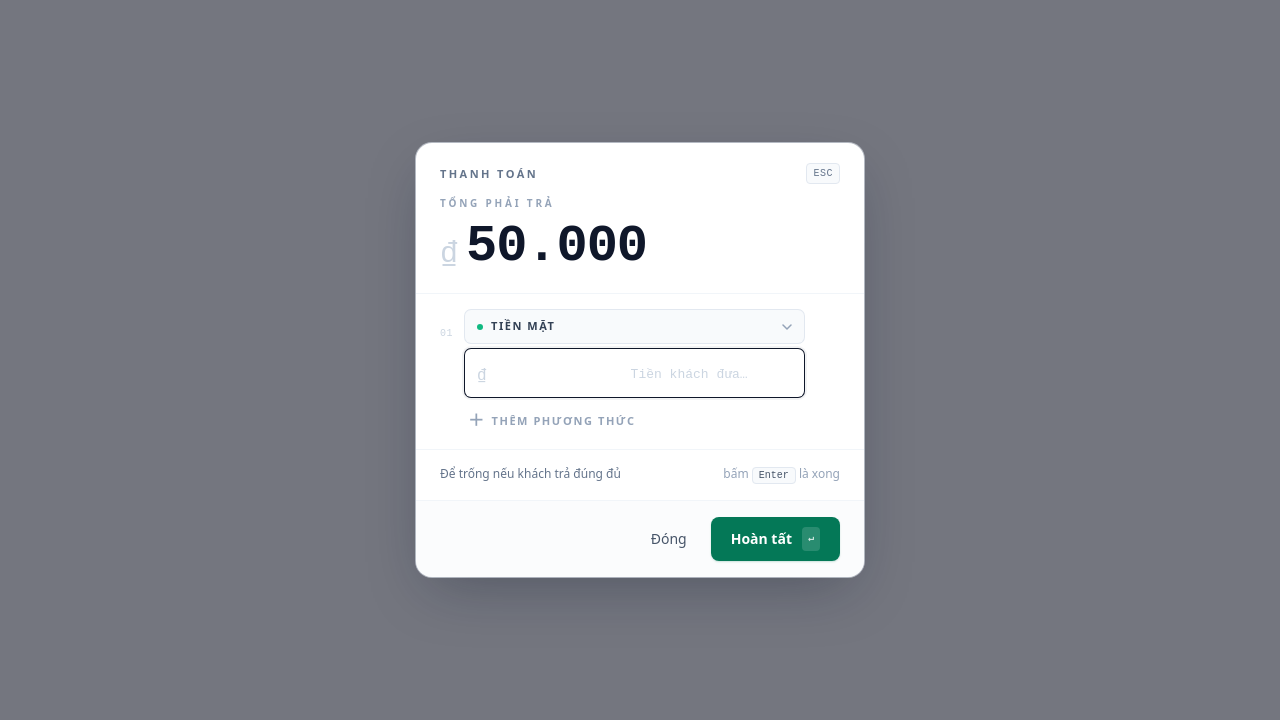
PaymentDialog › blocks debt when underpaid and no customer: hides checkbox, shows message, refuses to complete
The width and height of the screenshot is (1280, 720).
Type "30000" into the field named "Tiền khách đưa 1".
click(621, 373); type("30000")  # box [495,359,748,387]
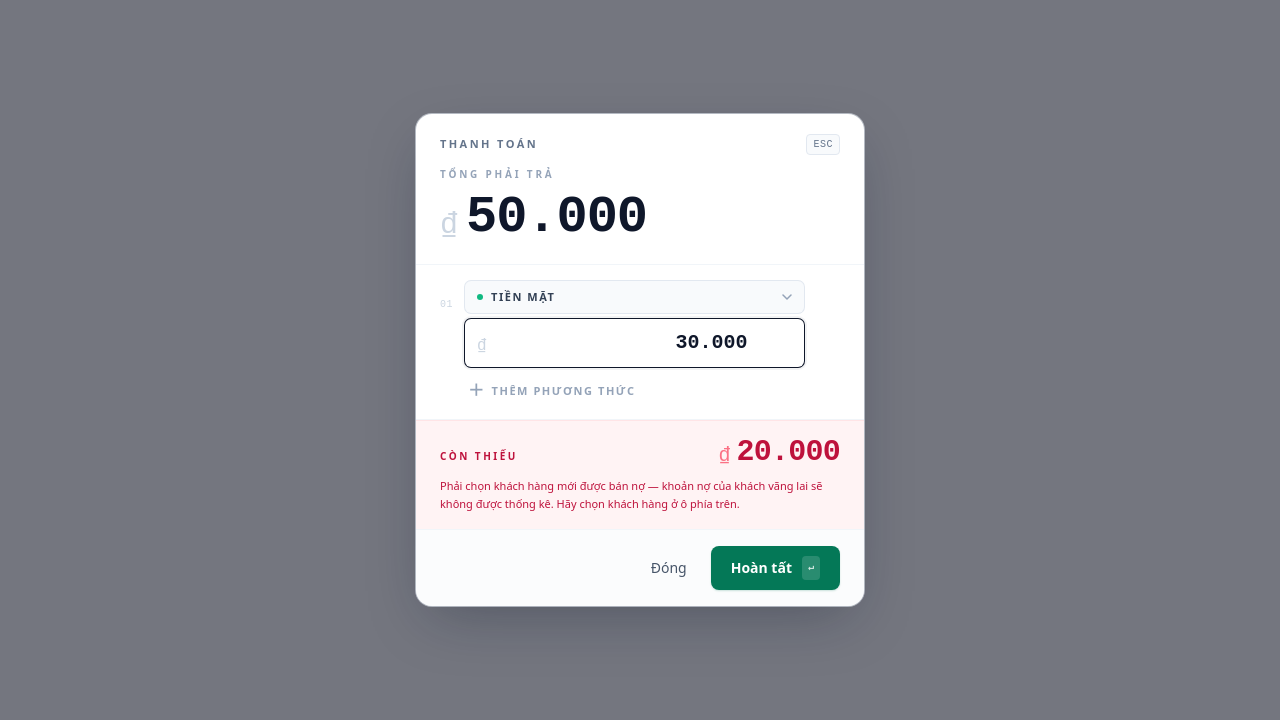
Expected: the text "Còn thiếu" is shown, [440,449,518,464]
Expected: the text "Phải chọn khách hàng mới được bán nợ" is shown, [440,478,822,511]
# Completing is refused with a Vietnamese error
Click the text "Hoàn tất".
click(761, 568)  # box [731,558,792,578]
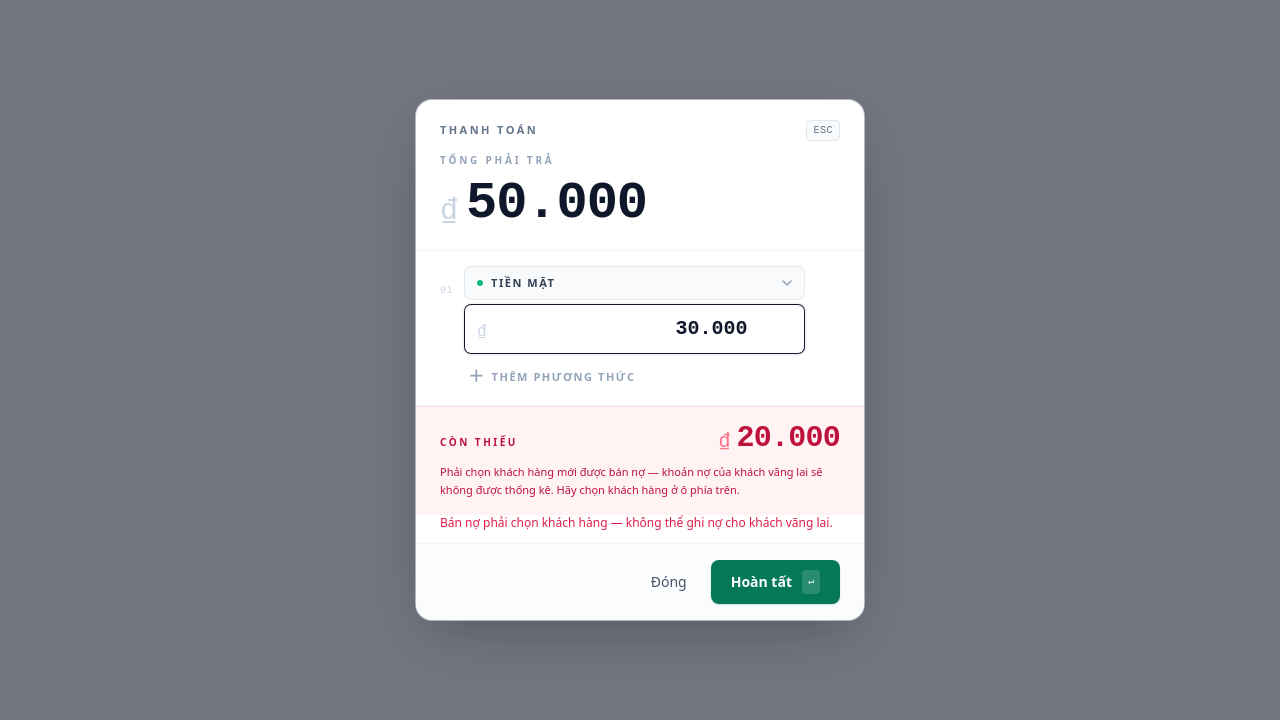
Expected: the text "Bán nợ phải chọn khách hàng — không thể ghi nợ cho khách vãng lai." is shown, [416,515,864,543]
